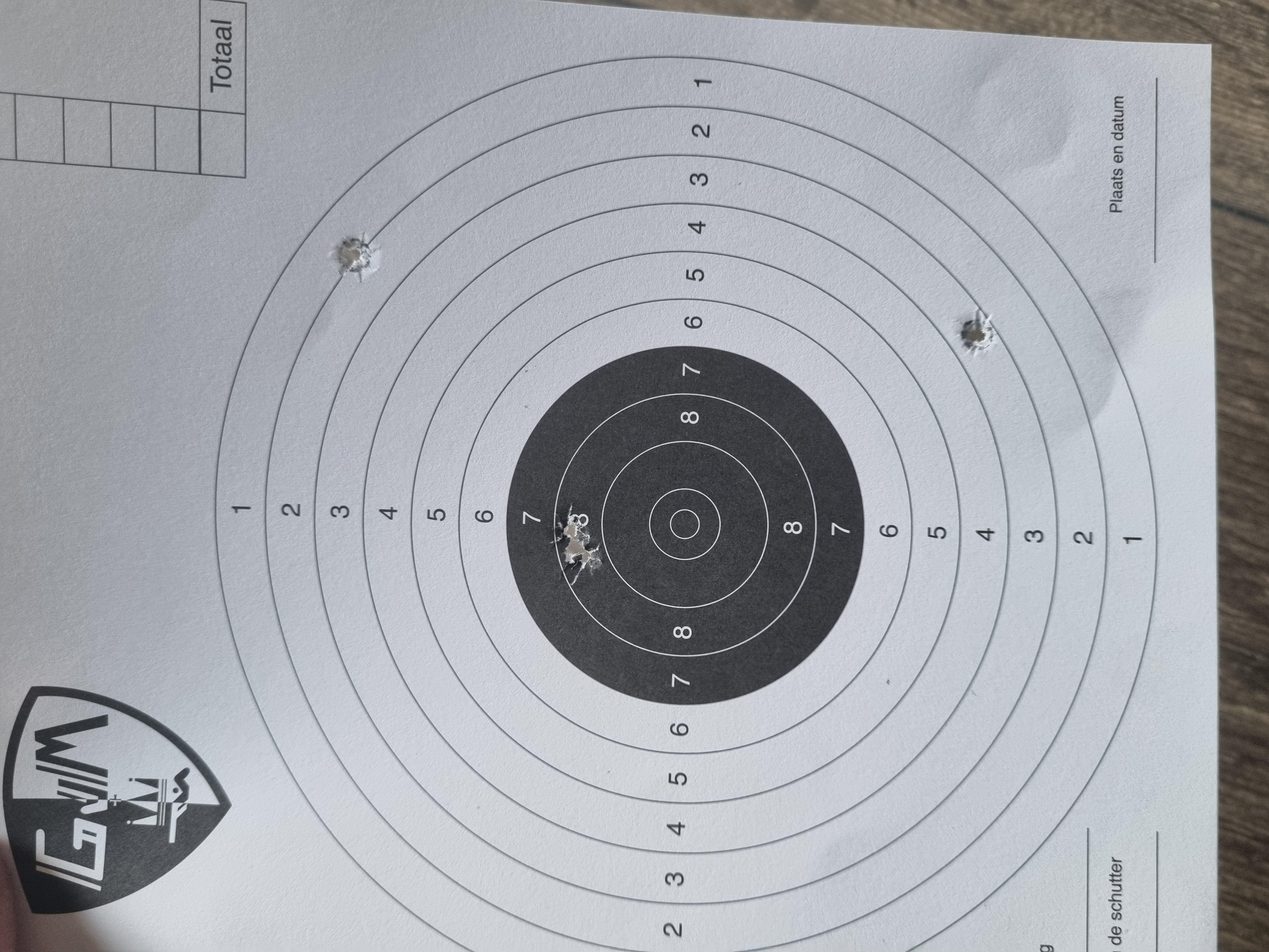hole: (796, 716, 860, 749), (898, 248, 953, 284), (499, 416, 550, 451), (543, 414, 596, 441)
